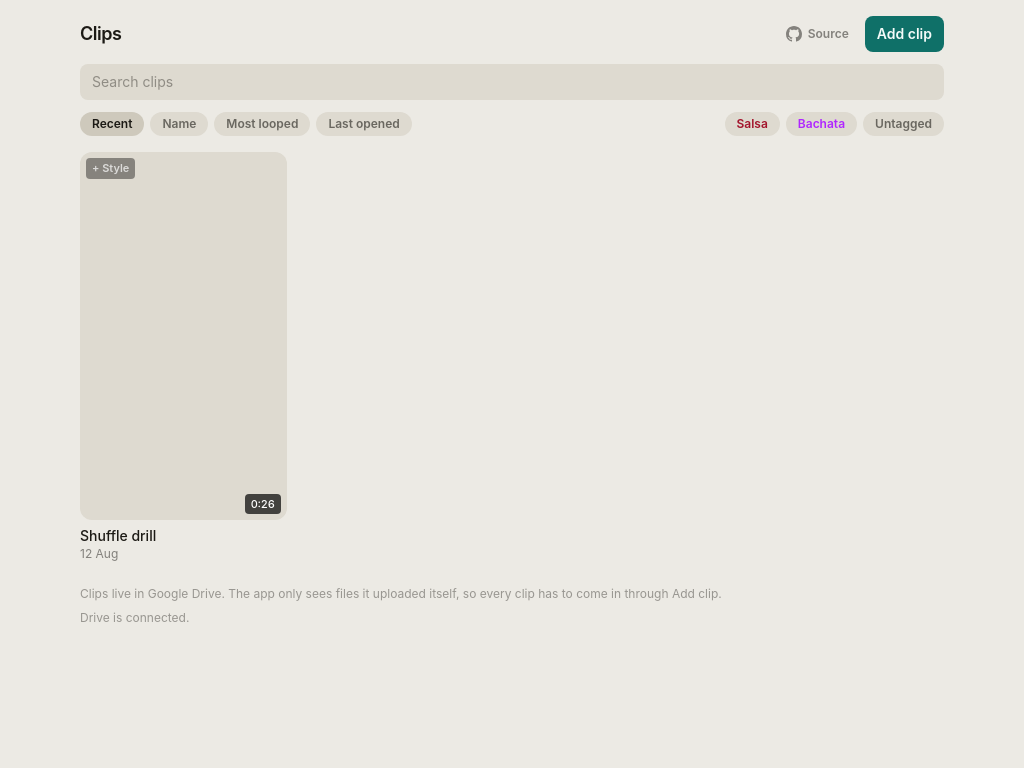
setting a clip’s style › stores the style in Drive, and the tile wears it
Click the button with aria-label "Style of Shuffle drill: none". click: click(111, 168)
box: [86,158,135,178]
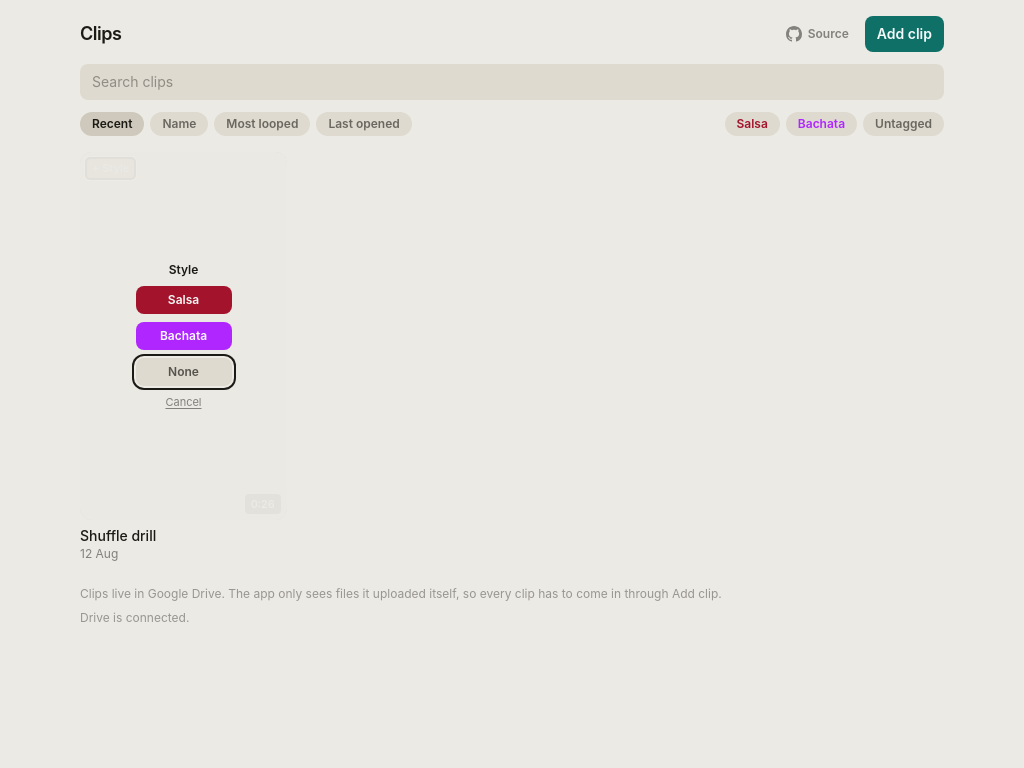
Click the 2nd button "Bachata". click: click(184, 336)
box: [136,322,232,350]
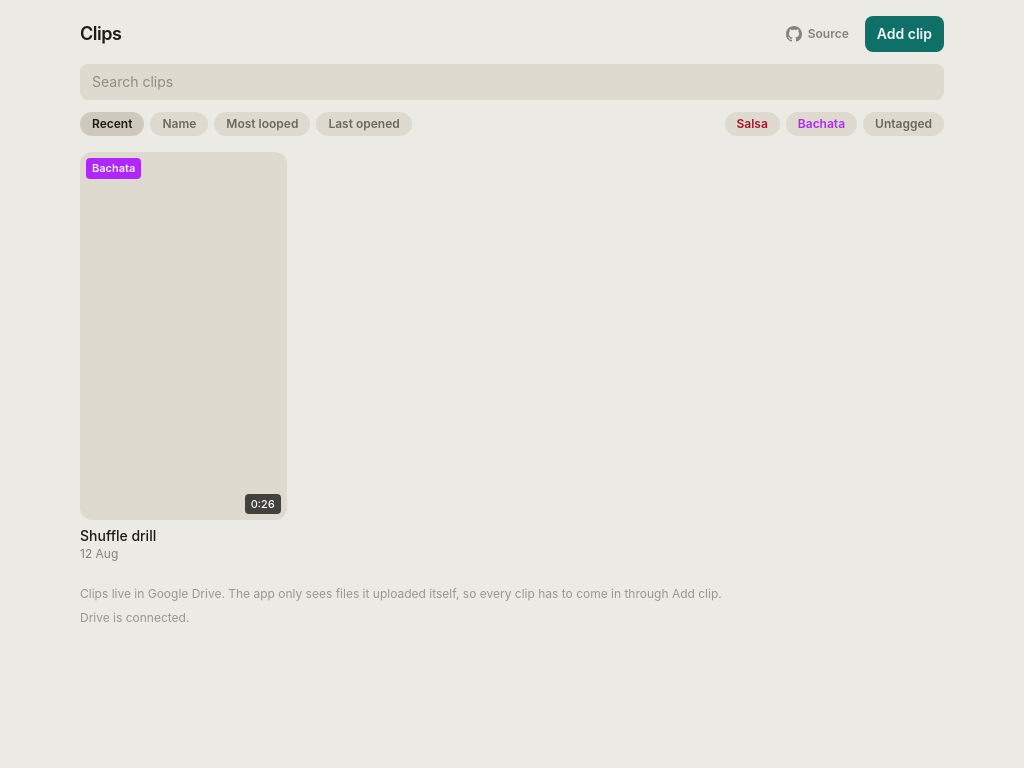
Now the button with aria-label "Style of Shuffle drill: Bachata" is shown, box [86,158,141,178]
